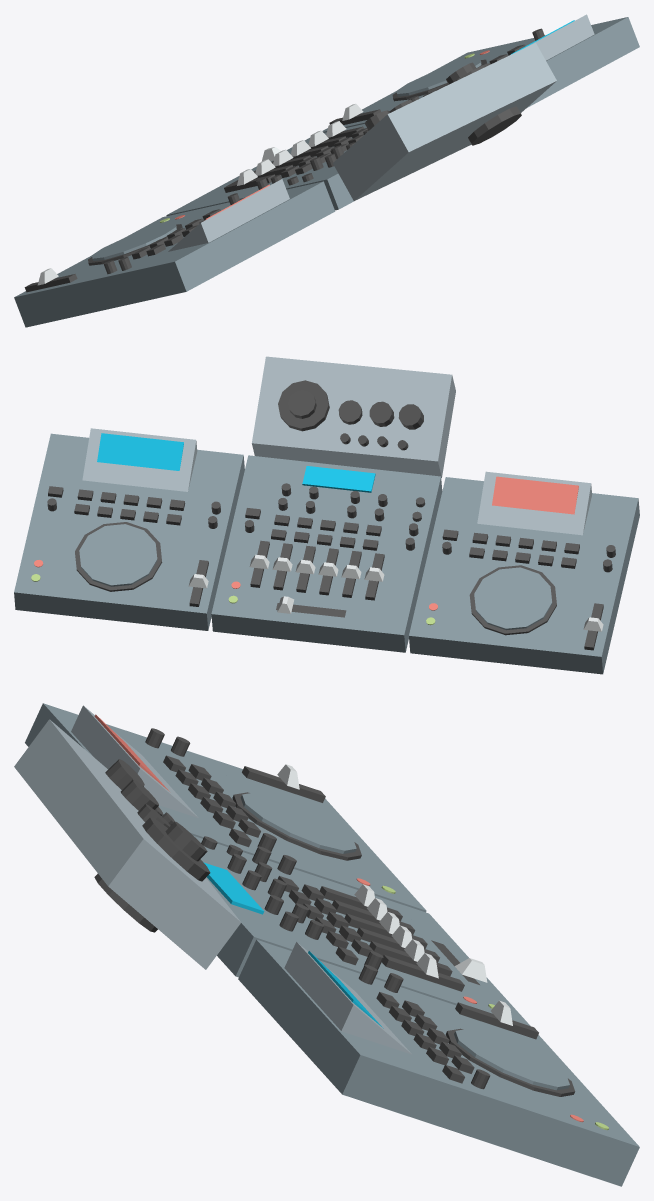
Rendered from VR DJ. with an RMX.glb.
The picture shows the model from 3 angles, top to bottom: view 1: azimuth 30°, elevation 25°; view 2: azimuth 150°, elevation 25°; view 3: azimuth 270°, elevation 25°; orthographic projection. The views are drawn at different scales.
Visible parts, largest first — view 1: group2107225461, group1212959986, group2118486049; view 2: group2107225461, group1212959986, group2118486049, group473380970, group209261736, group1870012394, group27169717; view 3: group2107225461, group1212959986, group2118486049, group473380970, group1870012394.
Boxes of the visible parts, <box> form: group2107225461: <box>14,14,639,327</box>; group1212959986: <box>333,43,556,200</box>; group2118486049: <box>453,63,521,145</box>; group2107225461: <box>14,428,639,674</box>; group1212959986: <box>251,356,455,477</box>; group2118486049: <box>278,380,329,431</box>; group473380970: <box>288,389,316,418</box>; group209261736: <box>398,404,423,429</box>; group1870012394: <box>369,401,394,426</box>; group27169717: <box>338,400,362,424</box>; group2107225461: <box>25,703,639,1186</box>; group1212959986: <box>14,719,241,969</box>; group2118486049: <box>94,817,210,932</box>; group473380970: <box>165,821,207,861</box>; group1870012394: <box>120,779,158,810</box>.
Bounding box in the file's own units: 1.34 × 0.44 × 0.837.
